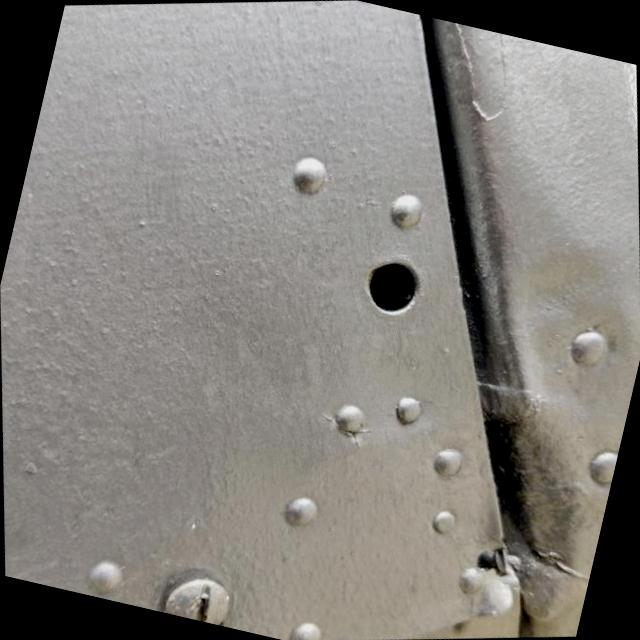Missing Fastener: (360, 255, 428, 323)
